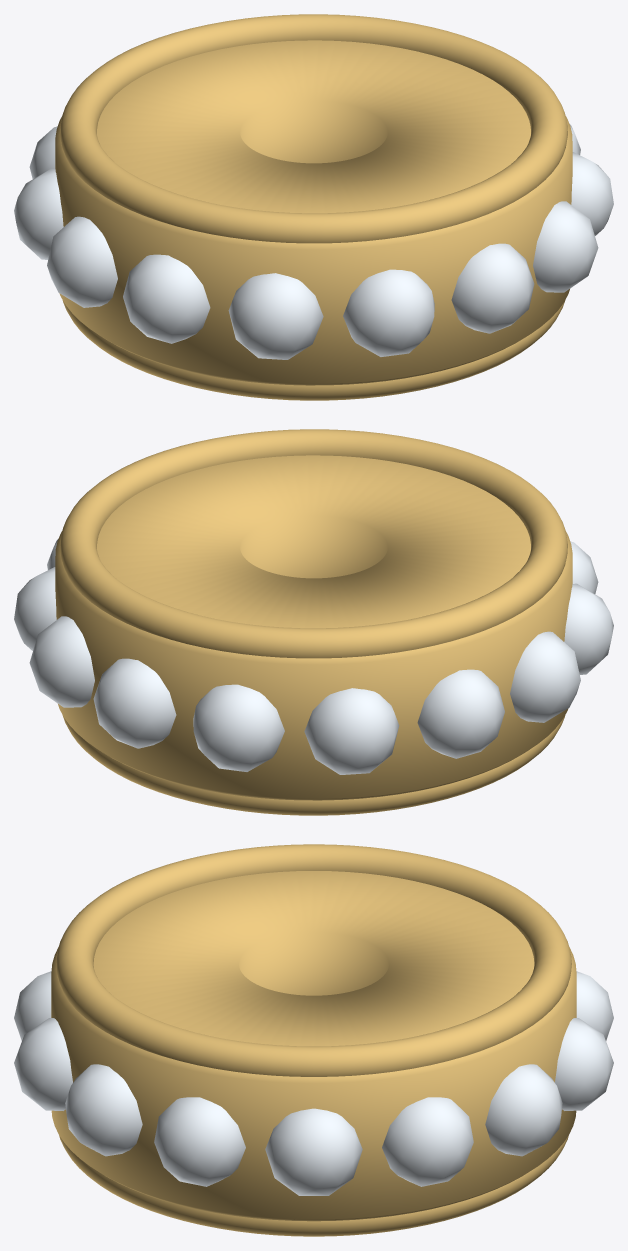
File: spacer-16-gold.glb
The picture shows the model from 3 angles, top to bottom: view 1: azimuth 30°, elevation 25°; view 2: azimuth 150°, elevation 25°; view 3: azimuth 270°, elevation 25°; orthographic projection.
Visible parts, largest first — view 1: Spacer with through bore.024, Spacer with through bore.026, Spacer with through bore.025, Icosphere.009, Icosphere.010, Icosphere.008, Icosphere.011, Icosphere.007, Icosphere.012, Icosphere.006, Icosphere.013, Icosphere.005; view 2: Spacer with through bore.024, Spacer with through bore.026, Spacer with through bore.025, Icosphere.005, Icosphere.004, Icosphere.006, Icosphere.003, Icosphere.007, Icosphere.002, Icosphere.008, Icosphere.001, Icosphere.009; view 3: Spacer with through bore.024, Spacer with through bore.026, Spacer with through bore.025, Icosphere, Icosphere.001, Icosphere.013, Icosphere.002, Icosphere.012, Icosphere.003, Icosphere.011, Icosphere.004, Icosphere.010.
Boxes of the visible parts, <box> form: Spacer with through bore.024: <box>55,40,572,385</box>; Spacer with through bore.026: <box>60,14,567,243</box>; Spacer with through bore.025: <box>62,300,565,400</box>; Icosphere.009: <box>228,273,323,359</box>; Icosphere.010: <box>343,269,434,356</box>; Icosphere.008: <box>123,254,210,343</box>; Icosphere.011: <box>451,243,534,333</box>; Icosphere.007: <box>47,216,117,307</box>; Icosphere.012: <box>533,201,598,292</box>; Icosphere.006: <box>14,168,63,259</box>; Icosphere.013: <box>571,152,613,235</box>; Icosphere.005: <box>29,126,57,178</box>; Spacer with through bore.024: <box>55,455,572,800</box>; Spacer with through bore.026: <box>60,429,567,658</box>; Spacer with through bore.025: <box>62,715,565,815</box>; Icosphere.005: <box>304,688,399,774</box>; Icosphere.004: <box>193,684,284,771</box>; Icosphere.006: <box>417,669,504,758</box>; Icosphere.003: <box>93,658,176,748</box>; Icosphere.007: <box>510,631,580,722</box>; Icosphere.002: <box>29,616,94,707</box>; Icosphere.008: <box>564,583,613,674</box>; Icosphere.001: <box>14,567,56,650</box>; Icosphere.009: <box>570,541,598,593</box>; Spacer with through bore.024: <box>51,871,576,1221</box>; Spacer with through bore.026: <box>56,844,571,1076</box>; Spacer with through bore.025: <box>59,1135,568,1236</box>; Icosphere: <box>265,1108,362,1195</box>; Icosphere.001: <box>382,1097,473,1186</box>; Icosphere.013: <box>154,1097,245,1186</box>; Icosphere.002: <box>485,1064,562,1156</box>; Icosphere.012: <box>65,1064,142,1156</box>; Icosphere.003: <box>555,1018,613,1110</box>; Icosphere.011: <box>14,1018,72,1110</box>; Icosphere.004: <box>576,971,613,1040</box>; Icosphere.010: <box>14,971,51,1040</box>.
Bounding box in the file's own units: 0.00649 × 0.0022 × 0.0064.
